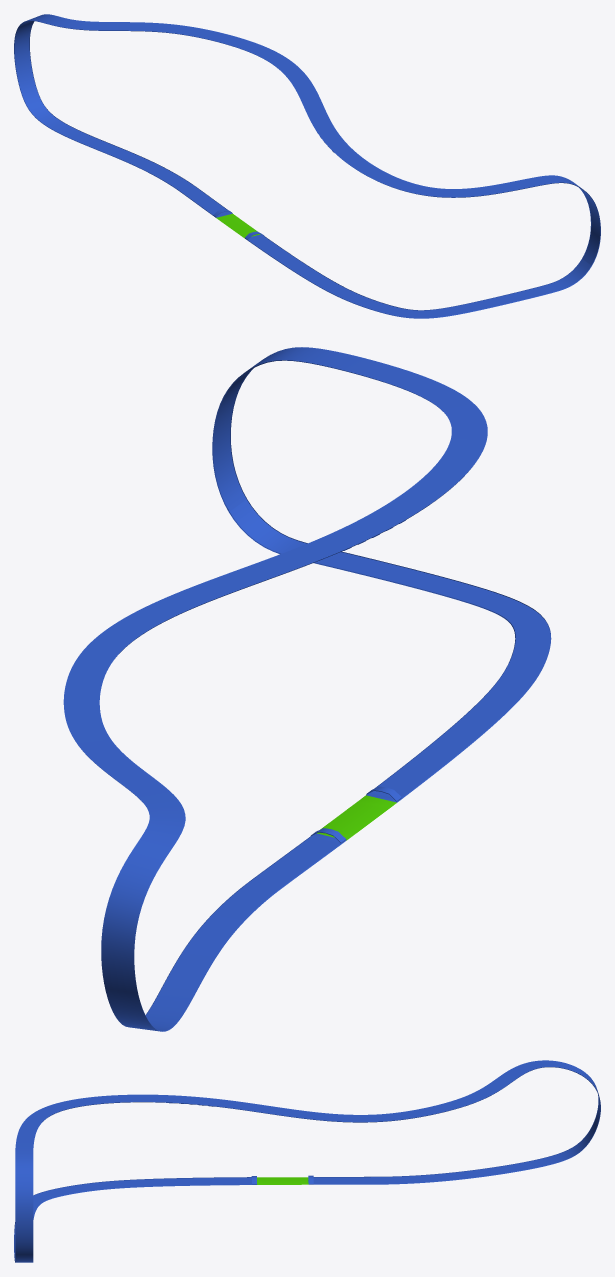
The model's file is ZeroGravityTrack.fbx.
3 renders of one model, top to bottom at view 1: azimuth 30°, elevation 25°; view 2: azimuth 150°, elevation 25°; view 3: azimuth 270°, elevation 25°, orthographic. The views are drawn at different scales.
Visible parts, largest first — view 1: DoubleTrack; view 2: DoubleTrack; view 3: DoubleTrack.
Part boxes in pixels (box(x1,y1,x2,y2)): DoubleTrack: box(14, 14, 600, 318); DoubleTrack: box(63, 347, 551, 1031); DoubleTrack: box(14, 1060, 600, 1262).
Bounding box in the file's own units: 274 × 109 × 571.
